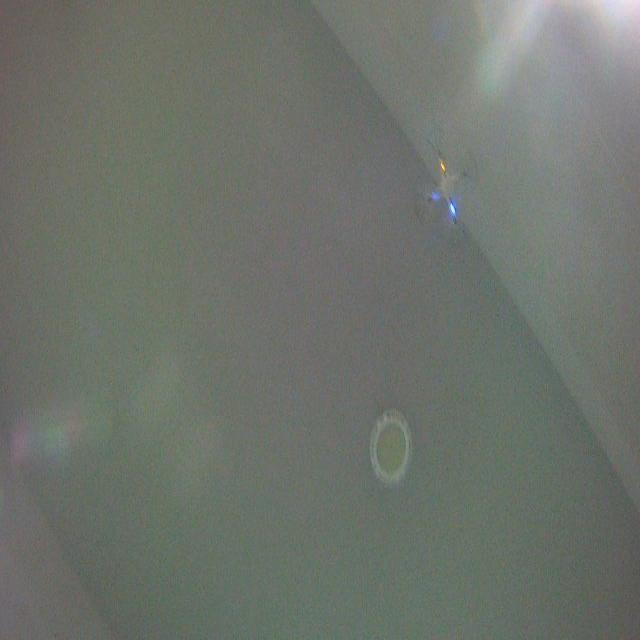drone: (412, 123, 480, 248)
